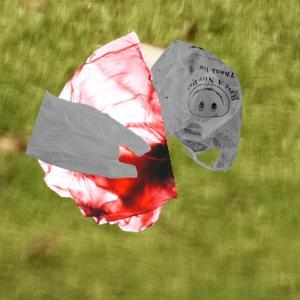plastic_bag: (150, 33, 246, 175), (22, 88, 152, 186)
